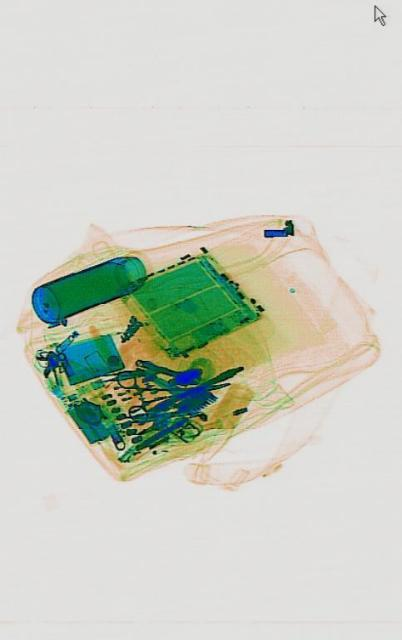Scissors: (114, 354, 230, 428)
